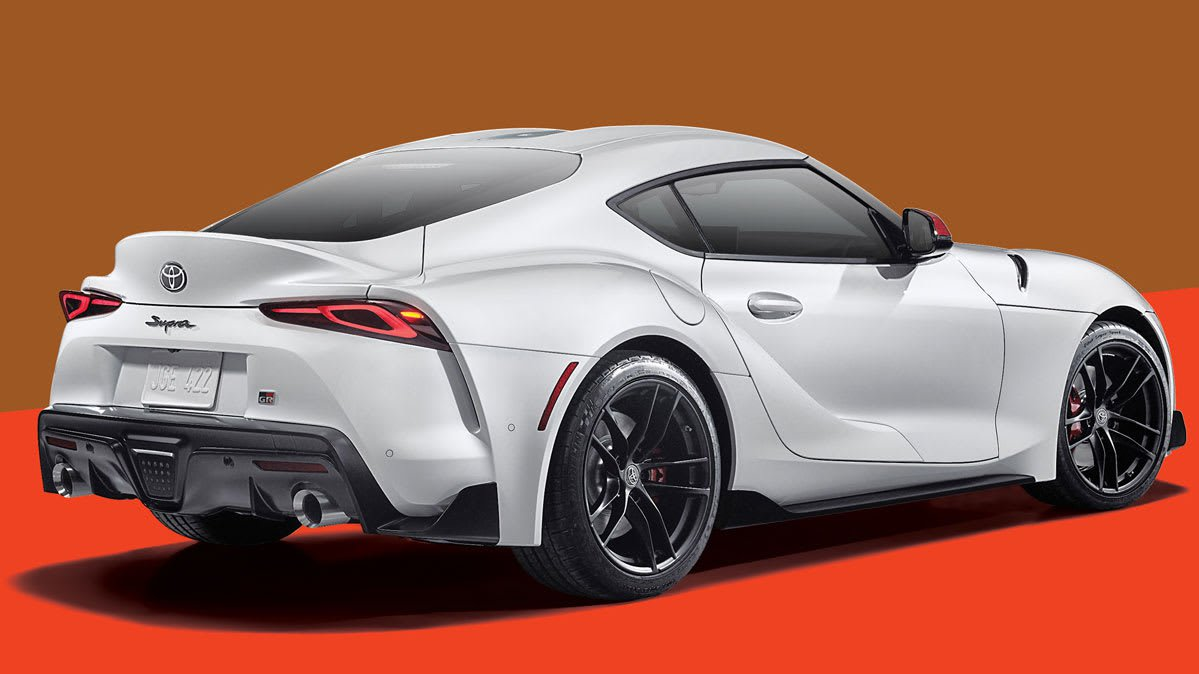car: (51, 122, 1177, 580)
